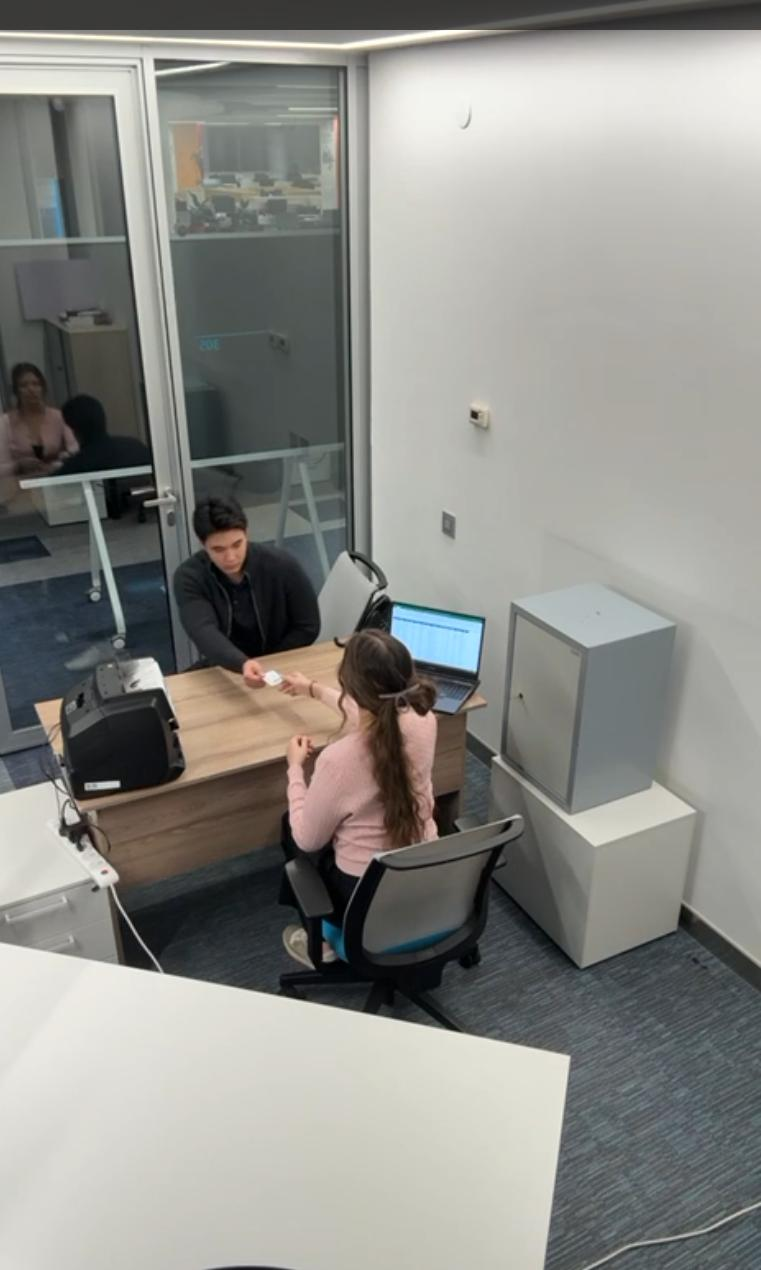counter: (48, 656, 188, 794)
document: (258, 660, 292, 696)
key_in: (510, 684, 533, 726)
screen_on: (389, 614, 478, 676)
